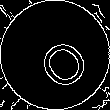O_NW: (22, 22, 88, 88)
